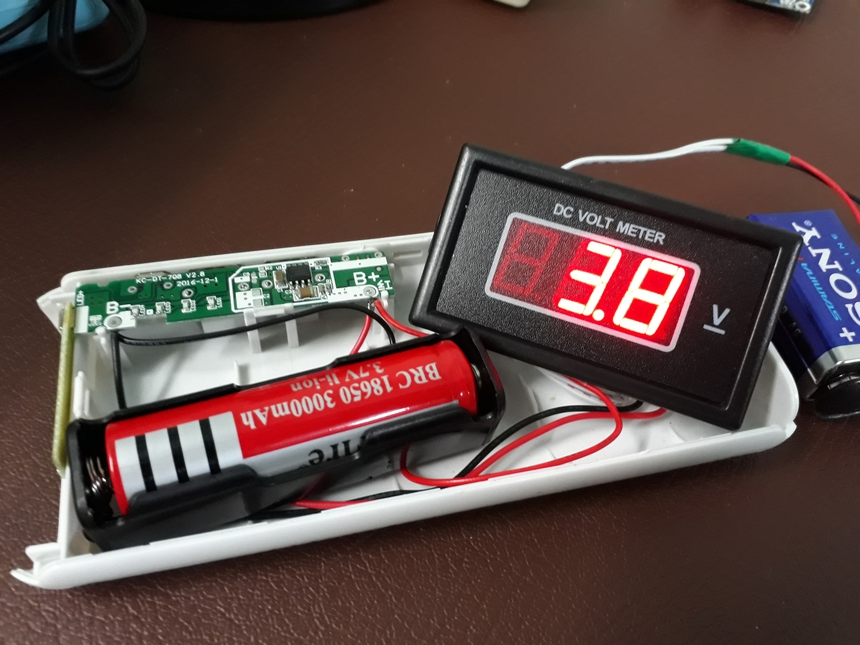Battery: (99, 337, 483, 515)
